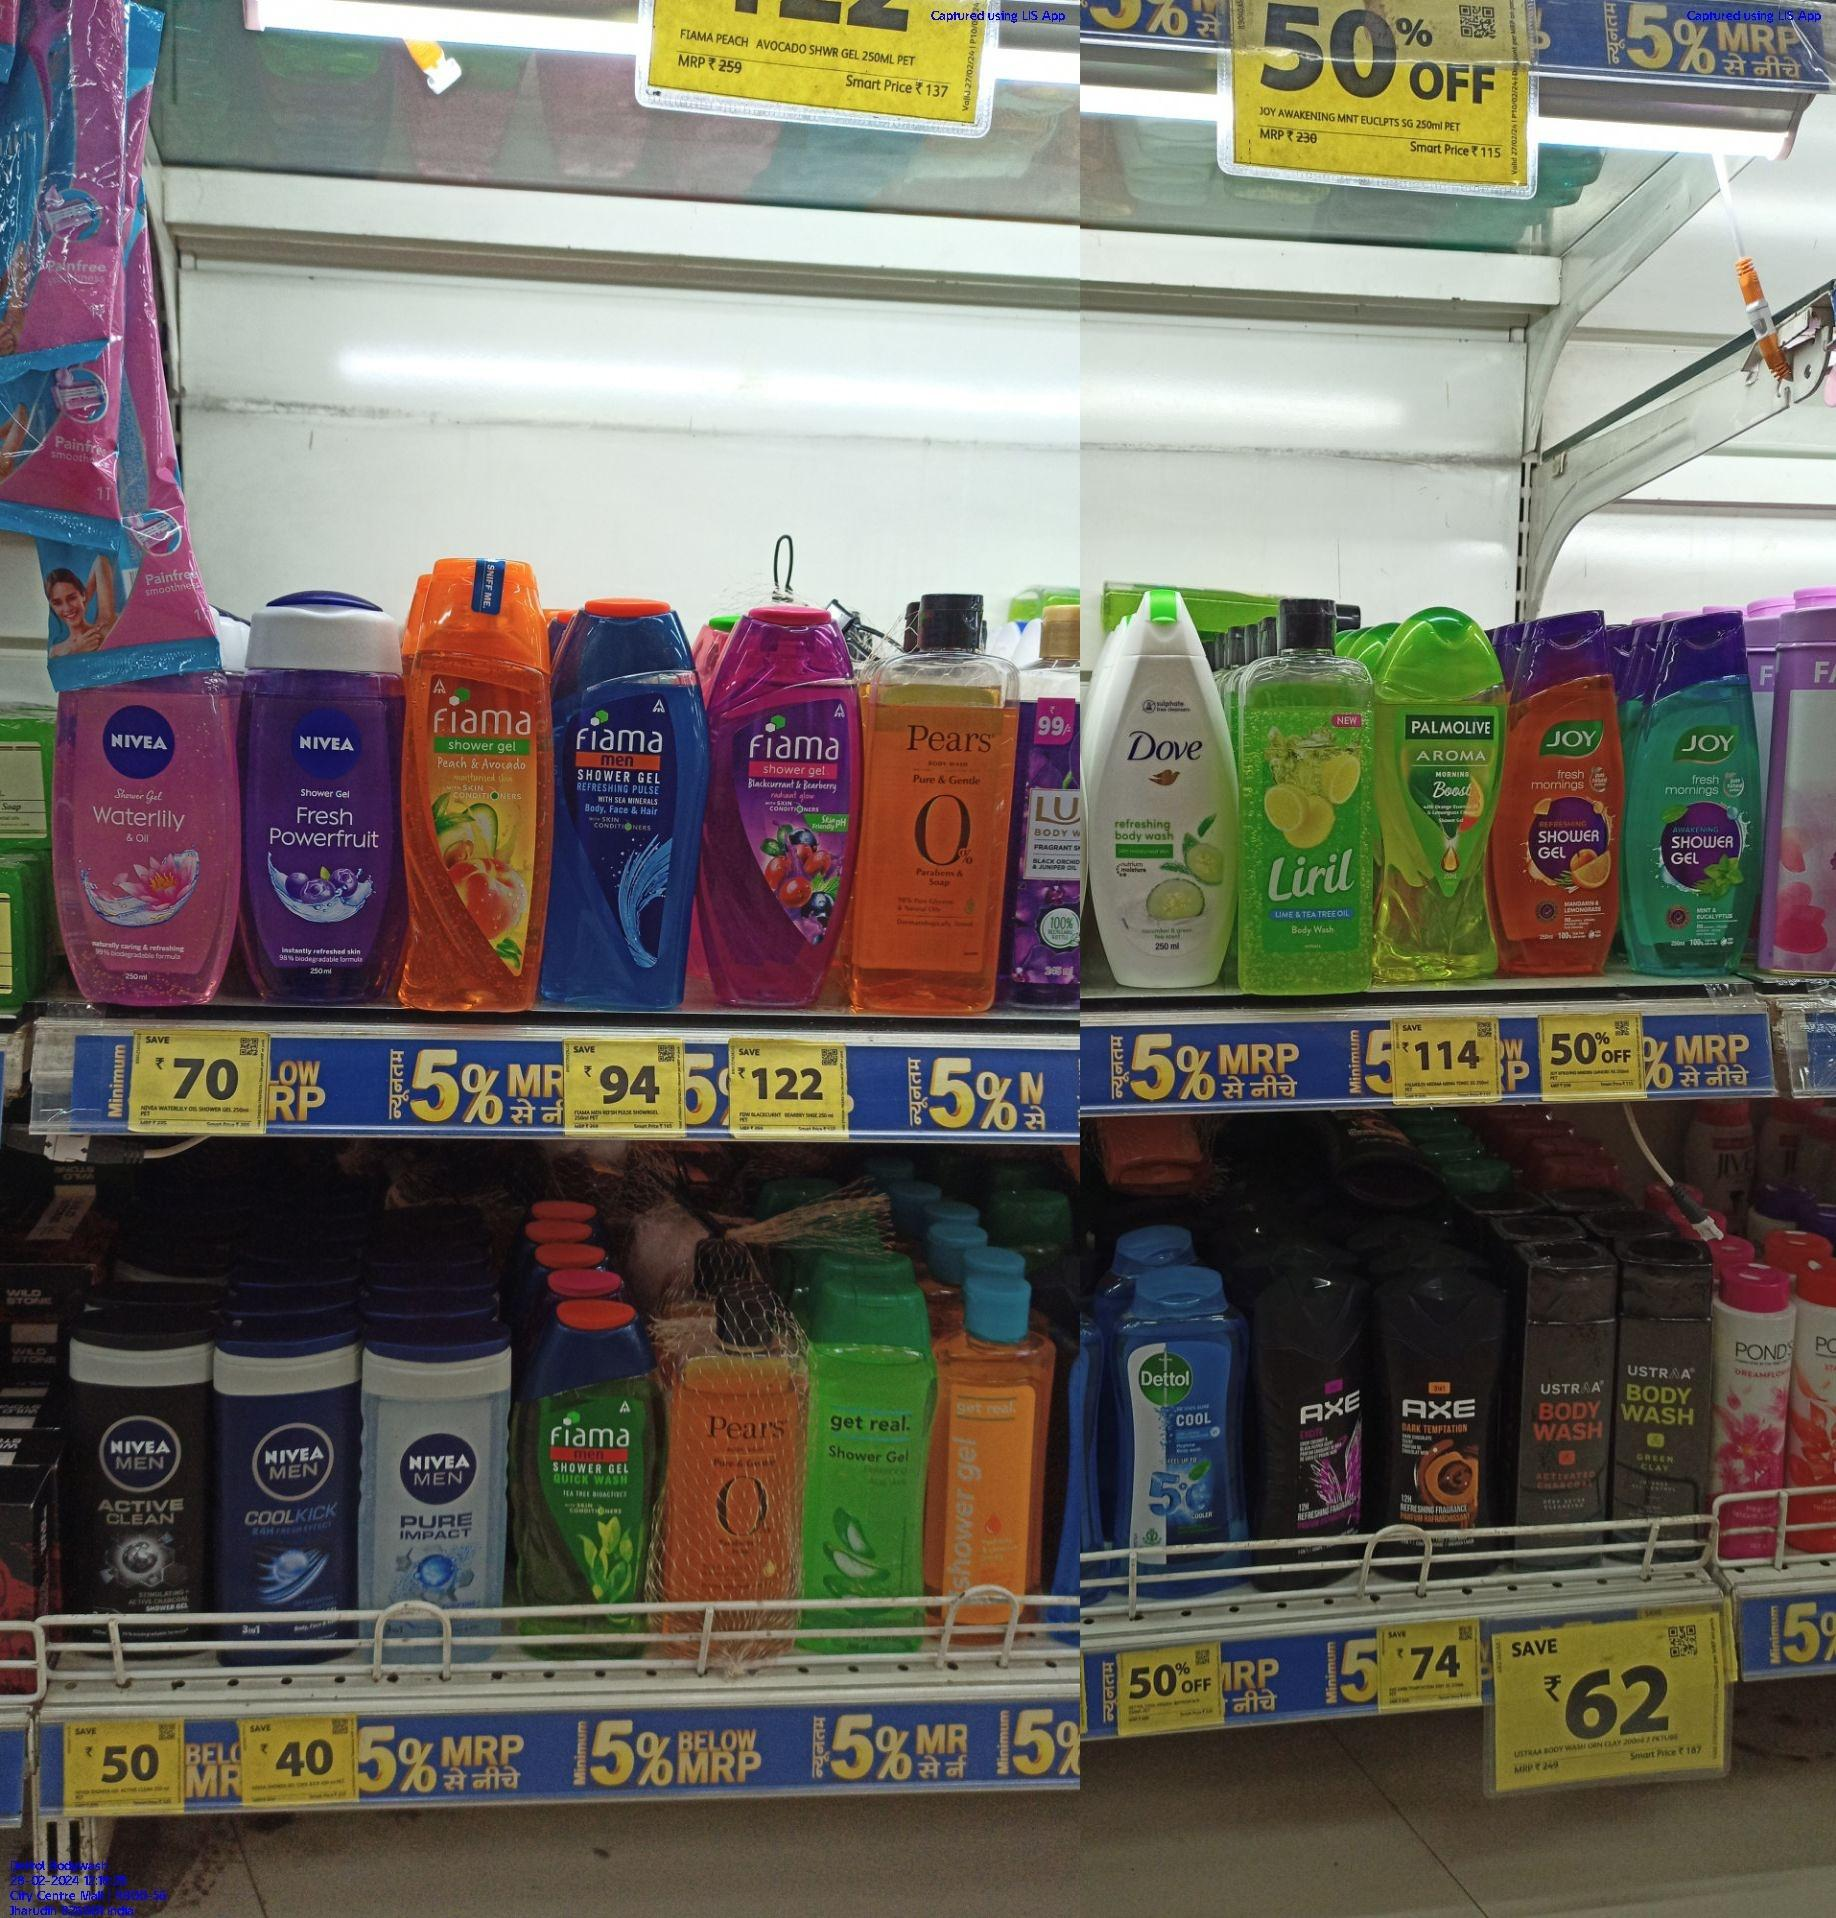Dettol_Bodywash_Cool: (1113, 1284, 1247, 1601)
Dove_Refreshing_Body_Wash_250ML: (1093, 579, 1226, 993)
Joy_Shower_Gel_Mandarin_and_Lemongrass_250ML: (1505, 598, 1620, 980)
Joy_Shower_Gel_Mint_and_Eucalyptus_250ML: (1632, 613, 1762, 980)
Liril_Lime_and_Tea_Tree_Oil_Body_Wash_250ML: (1238, 594, 1377, 995)
Lux_Black_Orchid_Scent_and_Juniper_Oil_Body_Wash_245ML: (1012, 601, 1088, 1017)
Nivea_Shower_Gel_Fresh_Powerfruit_250ML: (241, 593, 408, 1007)
Nivea_Shower_Gel_Waterlily_and_Oil_250ML: (48, 632, 229, 1009)
Palmolive_Aroma_Morning_Tonic_Shower_Gel_250ML: (1380, 608, 1497, 990)
